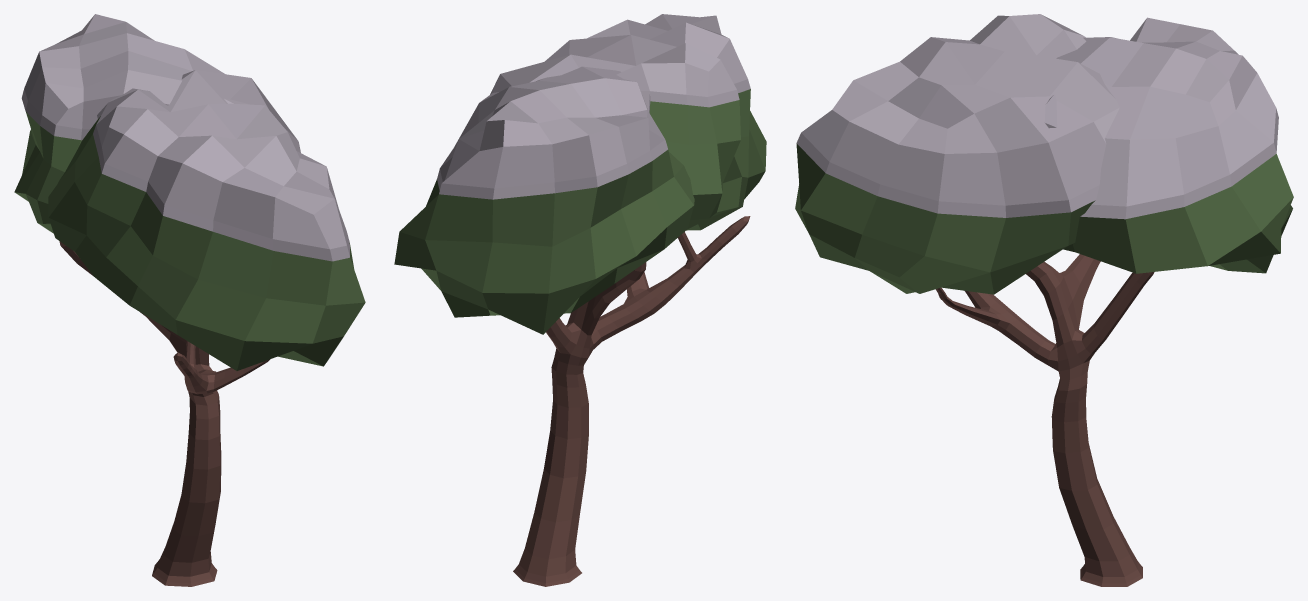
Rendered from commontree_snow5.glb.
3 views of the same model, side by side, from view 1: azimuth 30°, elevation 25°; view 2: azimuth 150°, elevation 25°; view 3: azimuth 270°, elevation 25° (orthographic). The views are drawn at different scales.
Parts seen in each view (by area): view 1: CommonTree_Snow_5; view 2: CommonTree_Snow_5; view 3: CommonTree_Snow_5.
Part boxes in pixels (box(x1,y1,x2,y2)): CommonTree_Snow_5: box(14, 14, 365, 586); CommonTree_Snow_5: box(394, 14, 766, 586); CommonTree_Snow_5: box(795, 14, 1293, 586).
Size of the model in its own units: 1.29 by 2.57 by 2.25.
